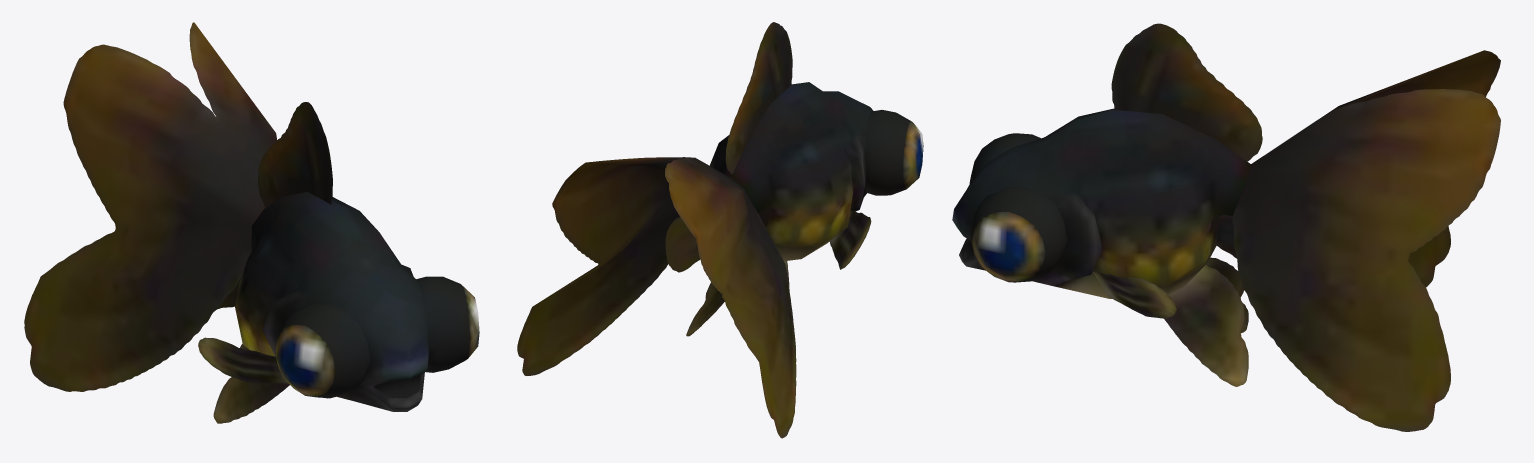
Rendered from pop-eyed-goldfish.glb.
3 renders of one model, left to right at view 1: azimuth 30°, elevation 25°; view 2: azimuth 150°, elevation 25°; view 3: azimuth 270°, elevation 25°, orthographic. The views are drawn at different scales.
Bounding box in the file's own units: 1.9 × 2.21 × 3.09.
1 material, 1 textured.
